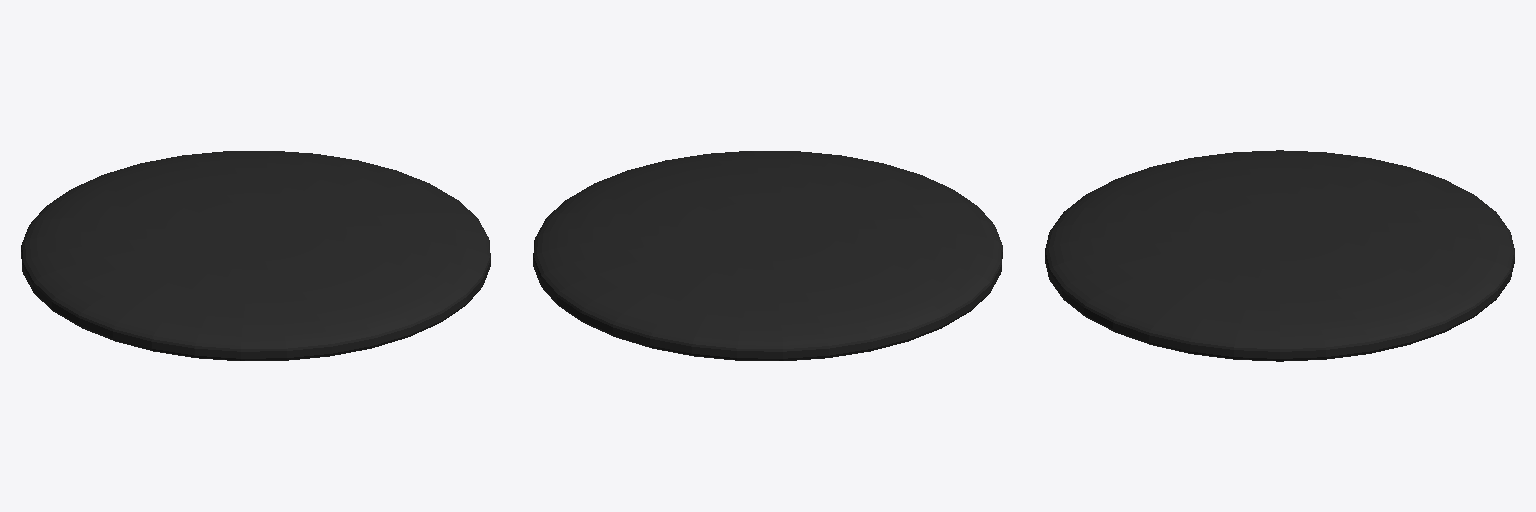
Rendered from dodai.obj.
The picture shows the model from 3 angles: view 1: azimuth 30°, elevation 25°; view 2: azimuth 150°, elevation 25°; view 3: azimuth 270°, elevation 25°; orthographic projection.
Parts seen in each view (by area): view 1: 円柱; view 2: 円柱; view 3: 円柱.
Boxes of the visible parts, <box> form: 円柱: <box>21,151,490,360</box>; 円柱: <box>533,151,1002,360</box>; 円柱: <box>1045,150,1514,361</box>.
Bounding box in the file's own units: 4.27 × 0.5056 × 4.27.